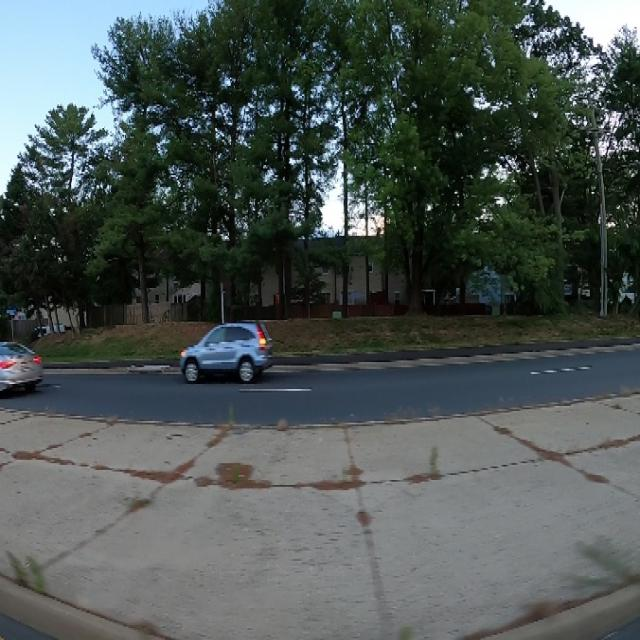car: (172, 312, 281, 396), (0, 328, 48, 400)
